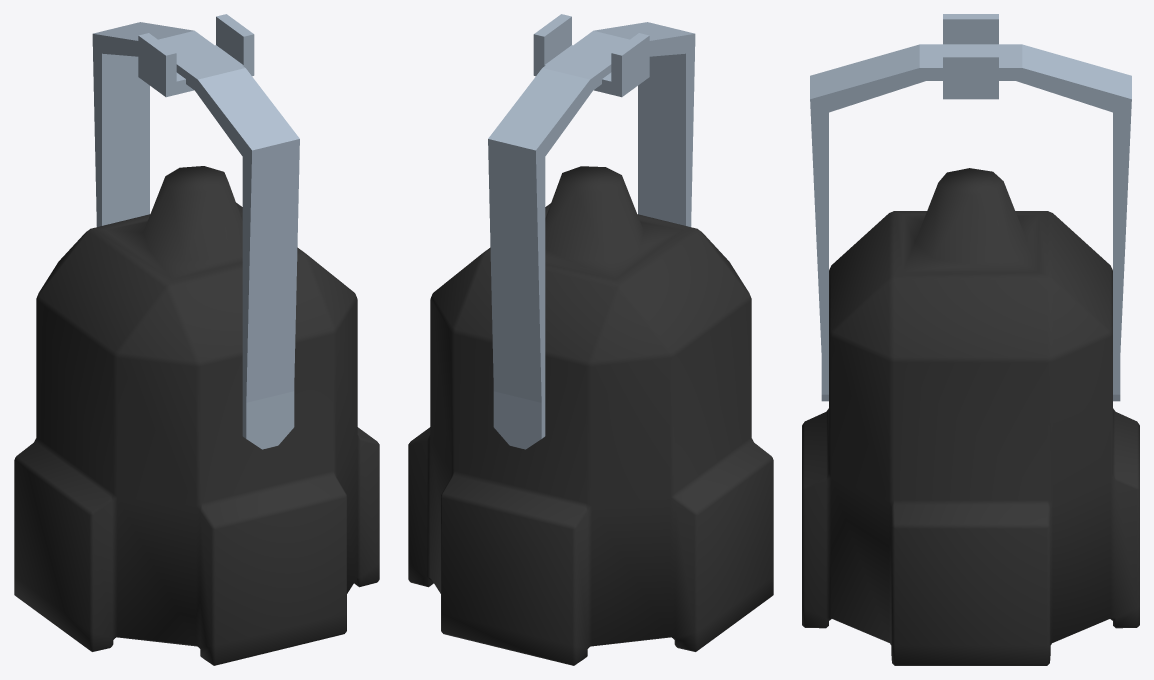
The model's file is lamp.fbx.
3 views of the same model, side by side, from view 1: azimuth 30°, elevation 25°; view 2: azimuth 150°, elevation 25°; view 3: azimuth 270°, elevation 25° (orthographic).
Parts seen in each view (by area): view 1: lamp, lamp_base; view 2: lamp, lamp_base; view 3: lamp, lamp_base.
Part boxes in pixels (box(x1,y1,x2,y2)): lamp: box(14, 166, 379, 665); lamp_base: box(92, 14, 299, 449); lamp: box(408, 166, 773, 665); lamp_base: box(488, 14, 695, 449); lamp: box(802, 168, 1139, 665); lamp_base: box(810, 14, 1131, 401).
Size of the model in its own units: 59.55 by 109 by 59.55.
